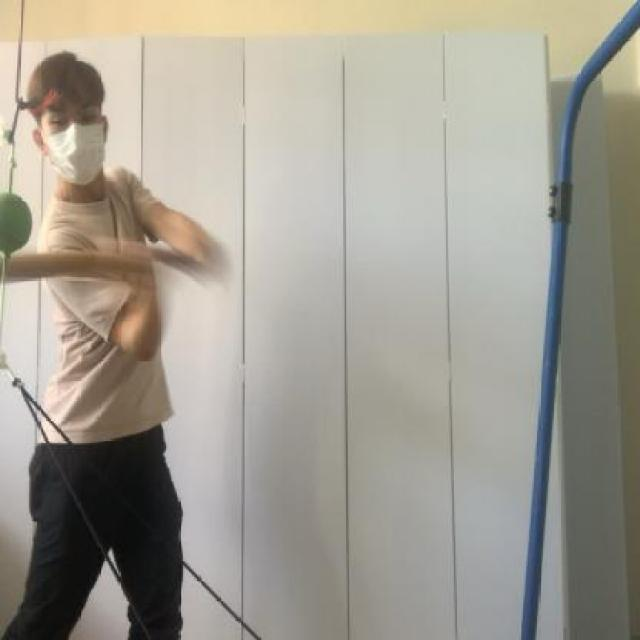baseball: (0, 186, 40, 260)
